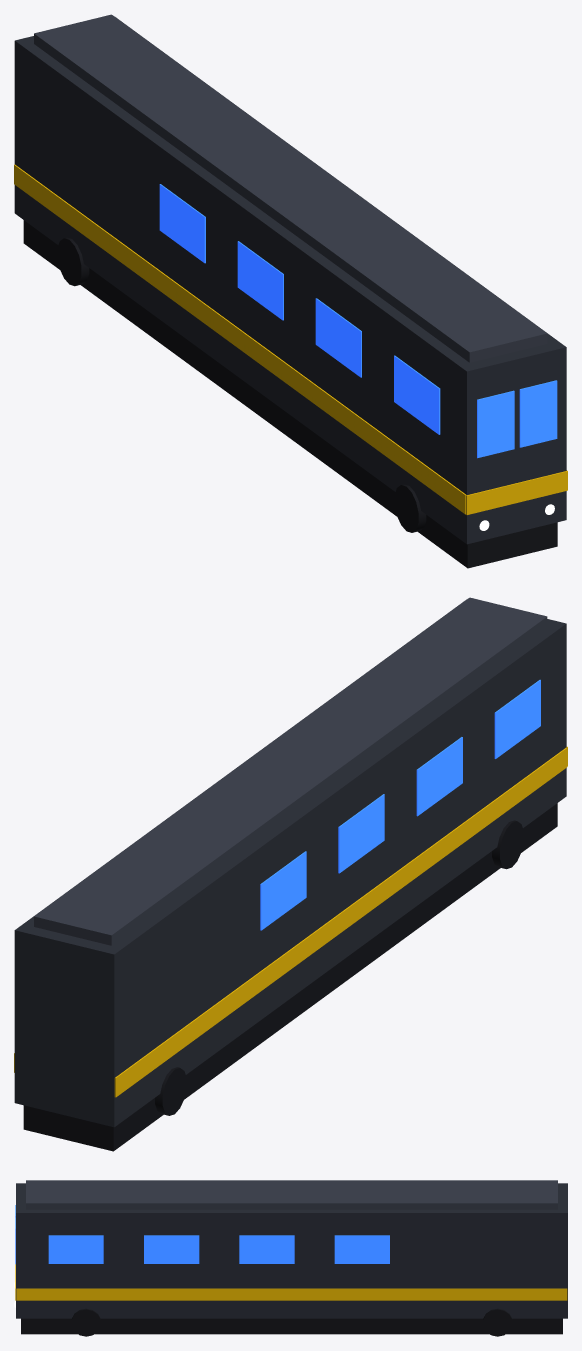
The model's file is train.glb.
3 views of the same model, one above another, from view 1: azimuth 30°, elevation 25°; view 2: azimuth 150°, elevation 25°; view 3: azimuth 270°, elevation 25° (orthographic). The views are drawn at different scales.
Parts seen in each view (by area): view 1: TrainBody; view 2: TrainBody; view 3: TrainBody.
Boxes of the visible parts, x1,y1,x2,y2 form: TrainBody: (14,14,567,568); TrainBody: (14,597,567,1151); TrainBody: (14,1180,567,1336).
Size of the model in its own units: 1.48 by 2.84 by 11.04.
